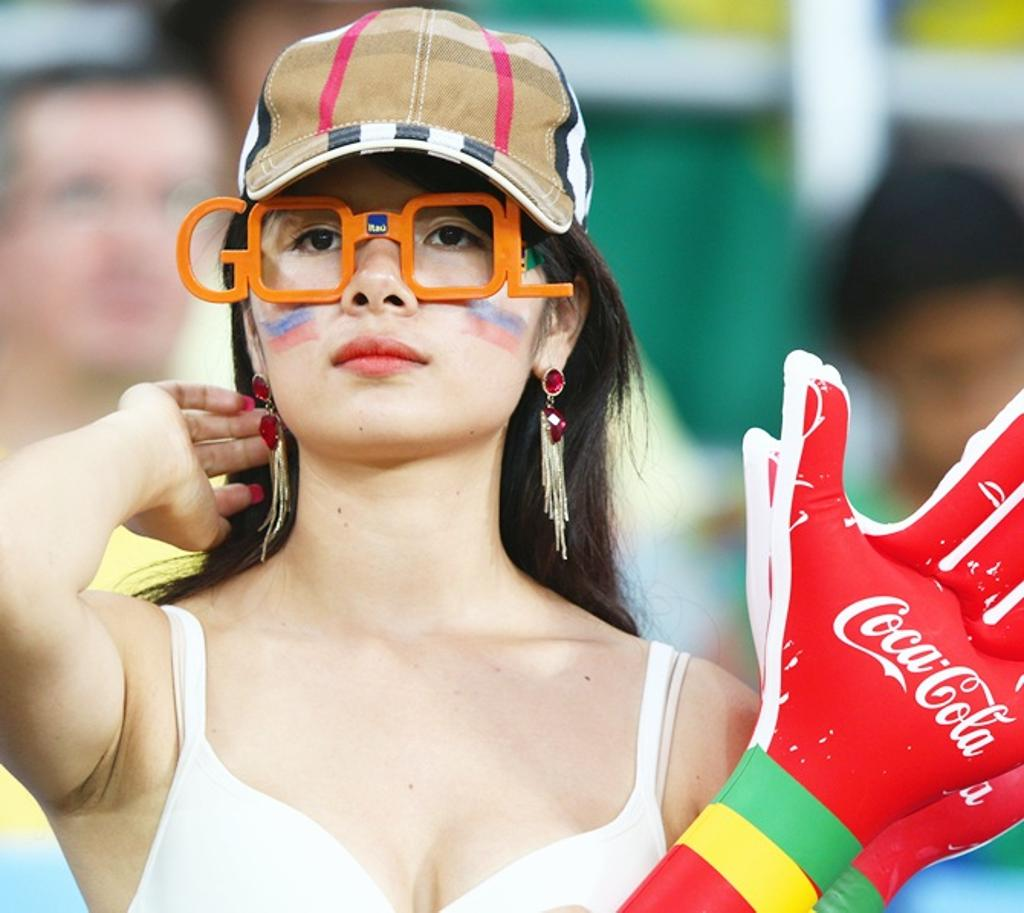face: (254, 152, 532, 440)
